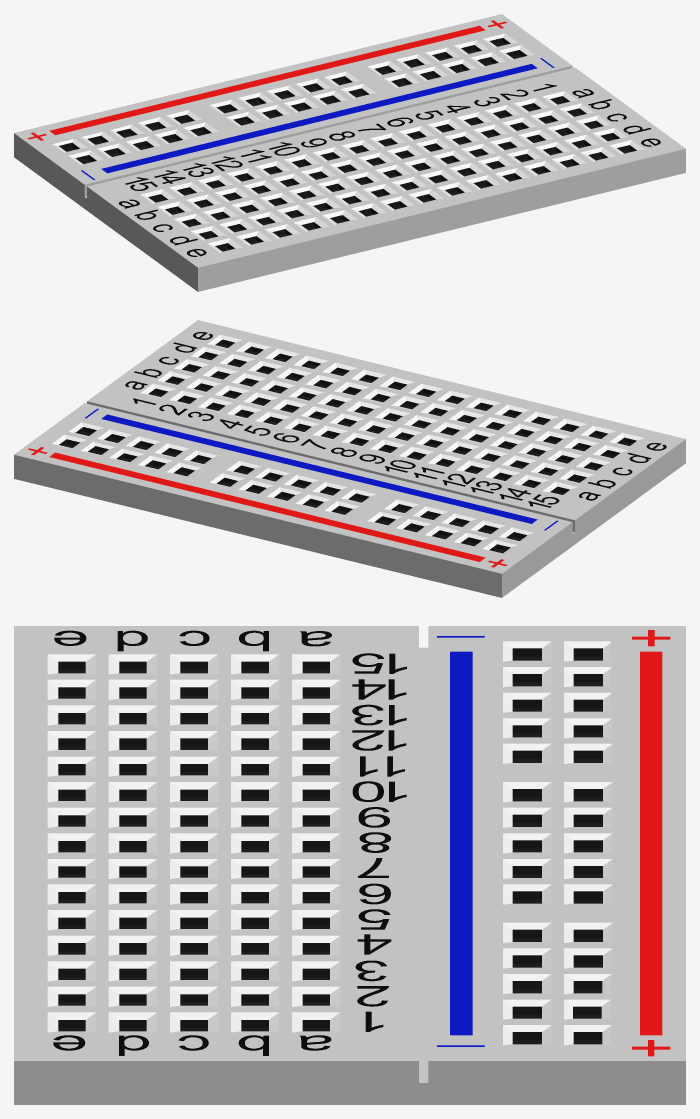
The model's file is HalfBreadBoard.FBX.
3 views of the same model, one above another, from view 1: azimuth 30°, elevation 25°; view 2: azimuth 150°, elevation 25°; view 3: azimuth 270°, elevation 25° (orthographic). The views are drawn at different scales.
Parts seen in each view (by area): view 1: Box002; view 2: Box002; view 3: Box002, E-1, D-1, D-6, E-6, E-8, D-8, D-13, E-13, D-15, E-15, D-2 (+94 smaller).
Part boxes in pixels (left/top/right/bottom): Box002: left=14, top=14, right=685, bottom=291; Box002: left=14, top=320, right=685, bottom=597; Box002: left=14, top=626, right=685, bottom=1104; E-1: left=47, top=1012, right=96, bottom=1032; D-1: left=108, top=1012, right=157, bottom=1032; D-6: left=108, top=884, right=157, bottom=904; E-6: left=47, top=884, right=96, bottom=904; E-8: left=47, top=833, right=96, bottom=853; D-8: left=108, top=833, right=157, bottom=853; D-13: left=108, top=705, right=157, bottom=725; E-13: left=47, top=705, right=96, bottom=725; D-15: left=108, top=654, right=157, bottom=674; E-15: left=47, top=654, right=96, bottom=674; D-2: left=108, top=986, right=157, bottom=1006.
Size of the model in its own units: 20.6 by 0.98 by 13.45.
